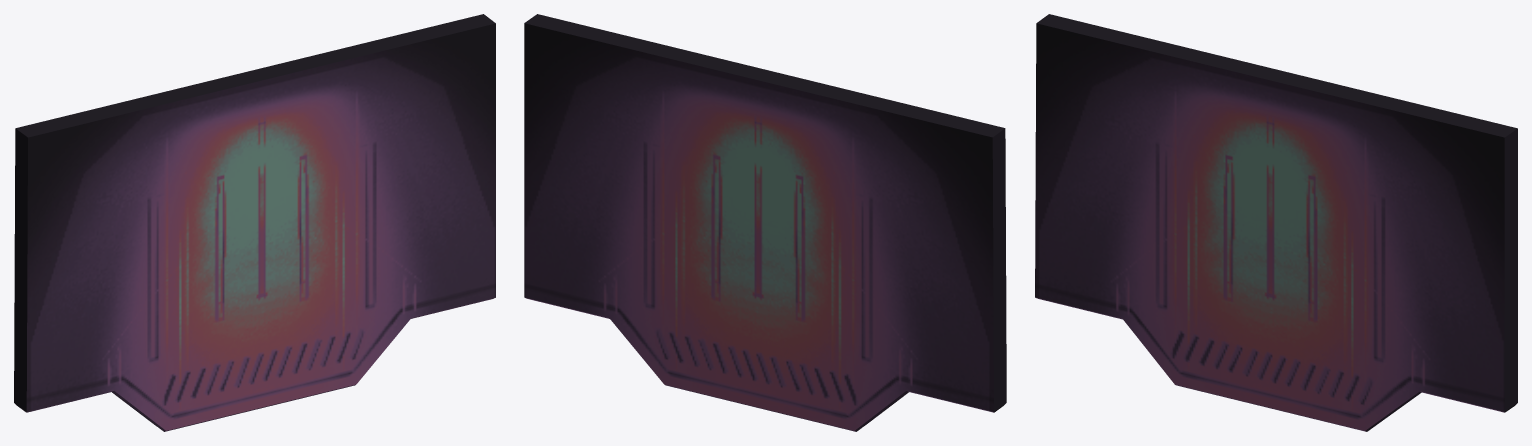
File: mod_Door_Top.glb
3 renders of one model, left to right at view 1: azimuth 30°, elevation 25°; view 2: azimuth 150°, elevation 25°; view 3: azimuth 330°, elevation 25°, orthographic.
Parts seen in each view (by area): view 1: seg_Door_Top; view 2: seg_Door_Top; view 3: seg_Door_Top.
Boxes of the visible parts, x1,y1,x2,y2 form: seg_Door_Top: (14, 14, 495, 431); seg_Door_Top: (524, 14, 1006, 431); seg_Door_Top: (1035, 14, 1517, 431).
Size of the model in its own units: 2.46 by 1.65 by 0.1156.
Materials: 1 (1 with a texture image).
